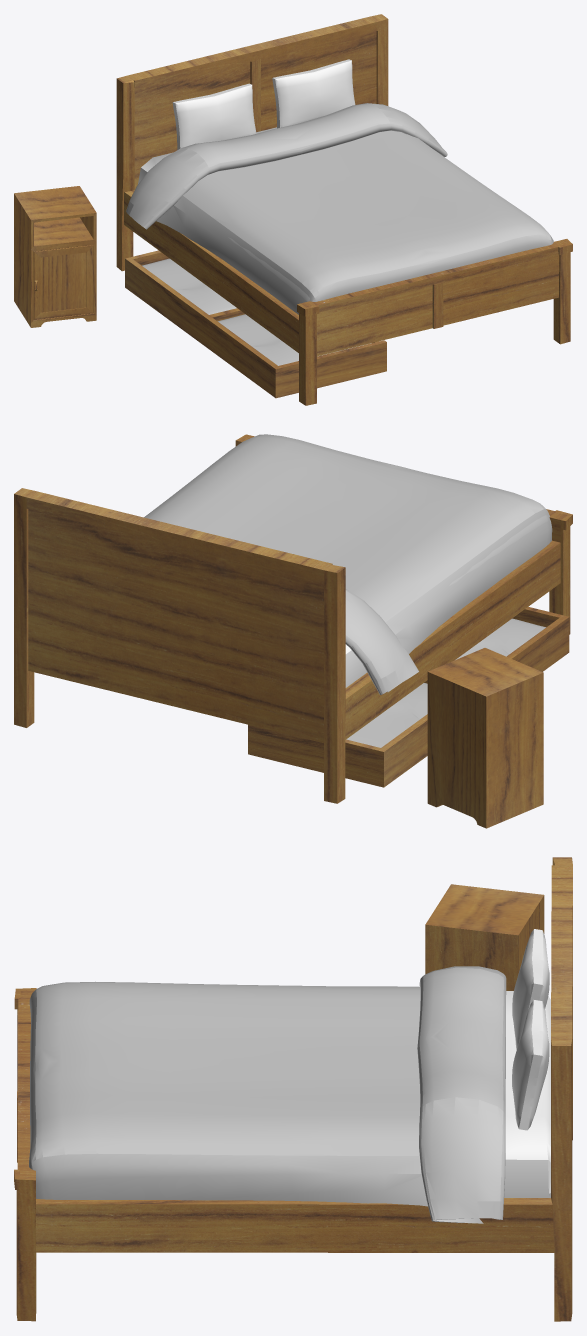
File: aspelund (2).fbx
3 views of the same model, one above another, from view 1: azimuth 30°, elevation 25°; view 2: azimuth 150°, elevation 25°; view 3: azimuth 270°, elevation 25° (orthographic). The views are drawn at different scales.
Parts seen in each view (by area): view 1: IKEA-Aspelund_Double_Bed-3D; view 2: IKEA-Aspelund_Double_Bed-3D; view 3: IKEA-Aspelund_Double_Bed-3D.
Boxes of the visible parts, x1,y1,x2,y2 form: IKEA-Aspelund_Double_Bed-3D: [14, 14, 572, 405]; IKEA-Aspelund_Double_Bed-3D: [14, 434, 572, 828]; IKEA-Aspelund_Double_Bed-3D: [14, 857, 572, 1321].
Bounding box in the file's own units: 63912 × 27988 × 51476.
Materials: 5 (1 with a texture image).
